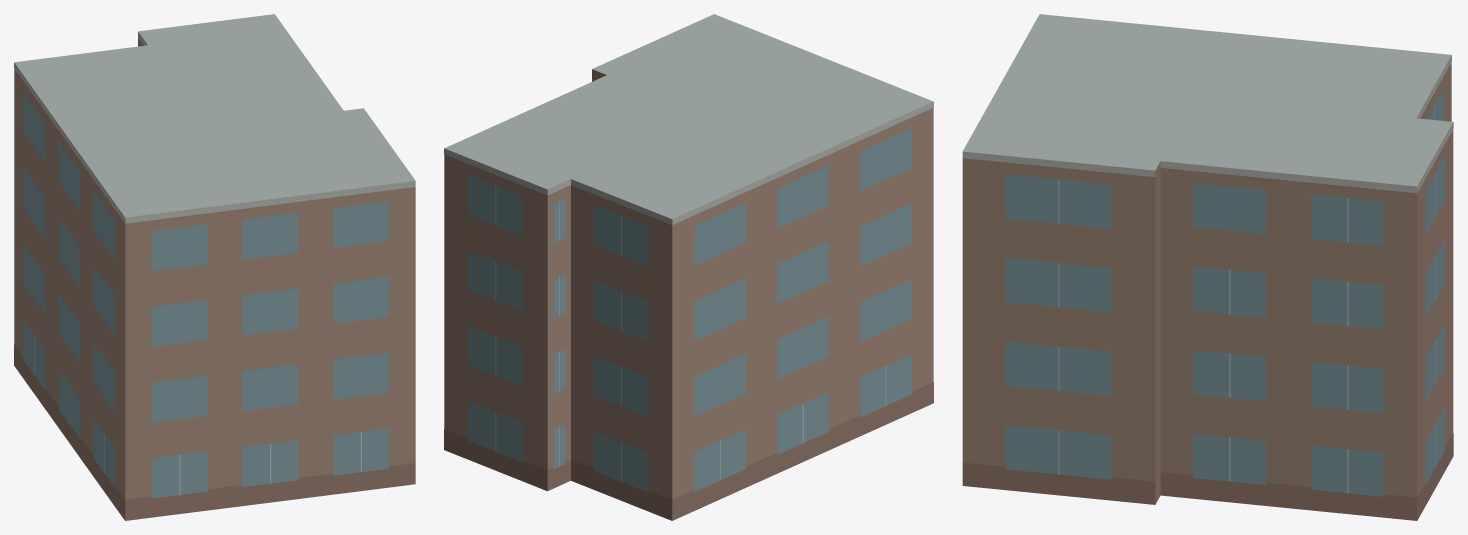
File: survey-upis-32975631.glb
3 renders of one model, left to right at view 1: azimuth 30°, elevation 25°; view 2: azimuth 150°, elevation 25°; view 3: azimuth 270°, elevation 25°, orthographic. The views are drawn at different scales.
Visible parts, largest first — view 1: survey-upis-32975631.tmp; view 2: survey-upis-32975631.tmp; view 3: survey-upis-32975631.tmp.
Part boxes in pixels (box(x1,y1,x2,y2)): survey-upis-32975631.tmp: box(14, 14, 415, 520); survey-upis-32975631.tmp: box(444, 14, 933, 520); survey-upis-32975631.tmp: box(962, 14, 1453, 520).
Size of the model in its own units: 13.52 by 12.2 by 16.25.
